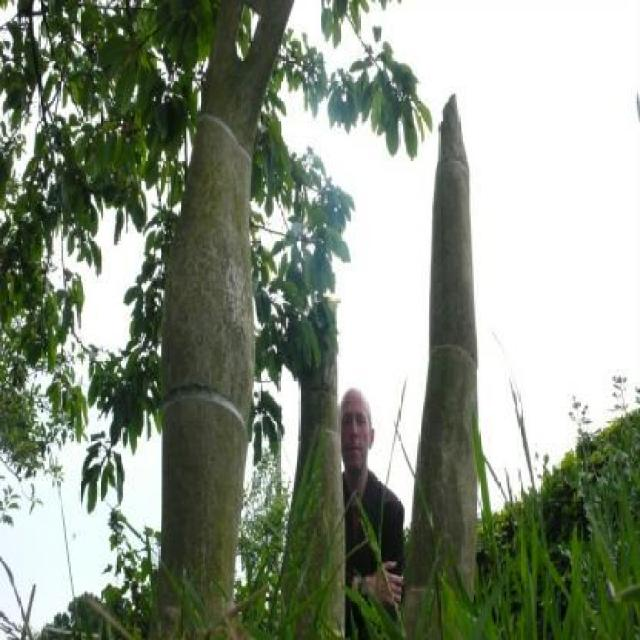Person: (334, 390, 404, 639)
